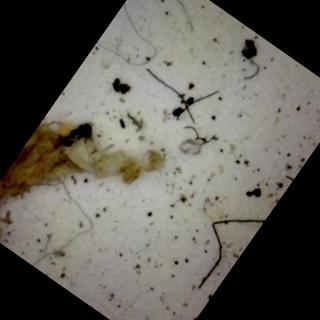Microplastic: (91, 0, 214, 94)
